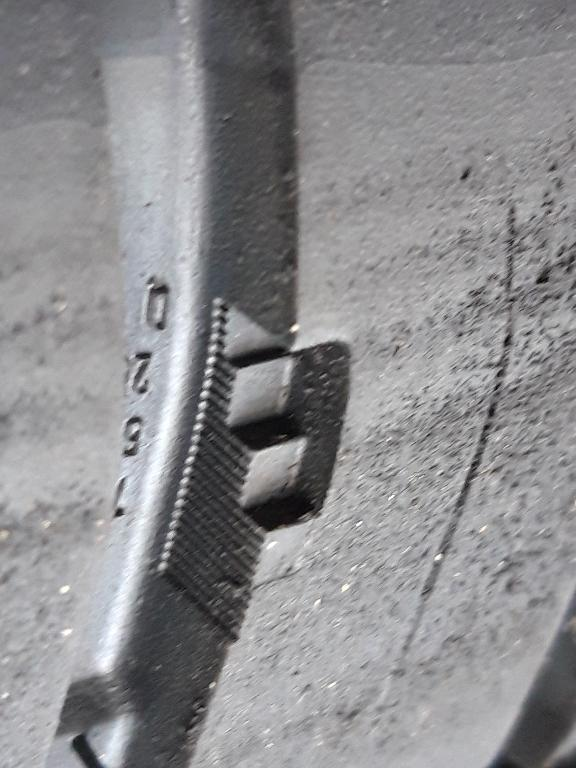temoin:75: (174, 280, 364, 545)
